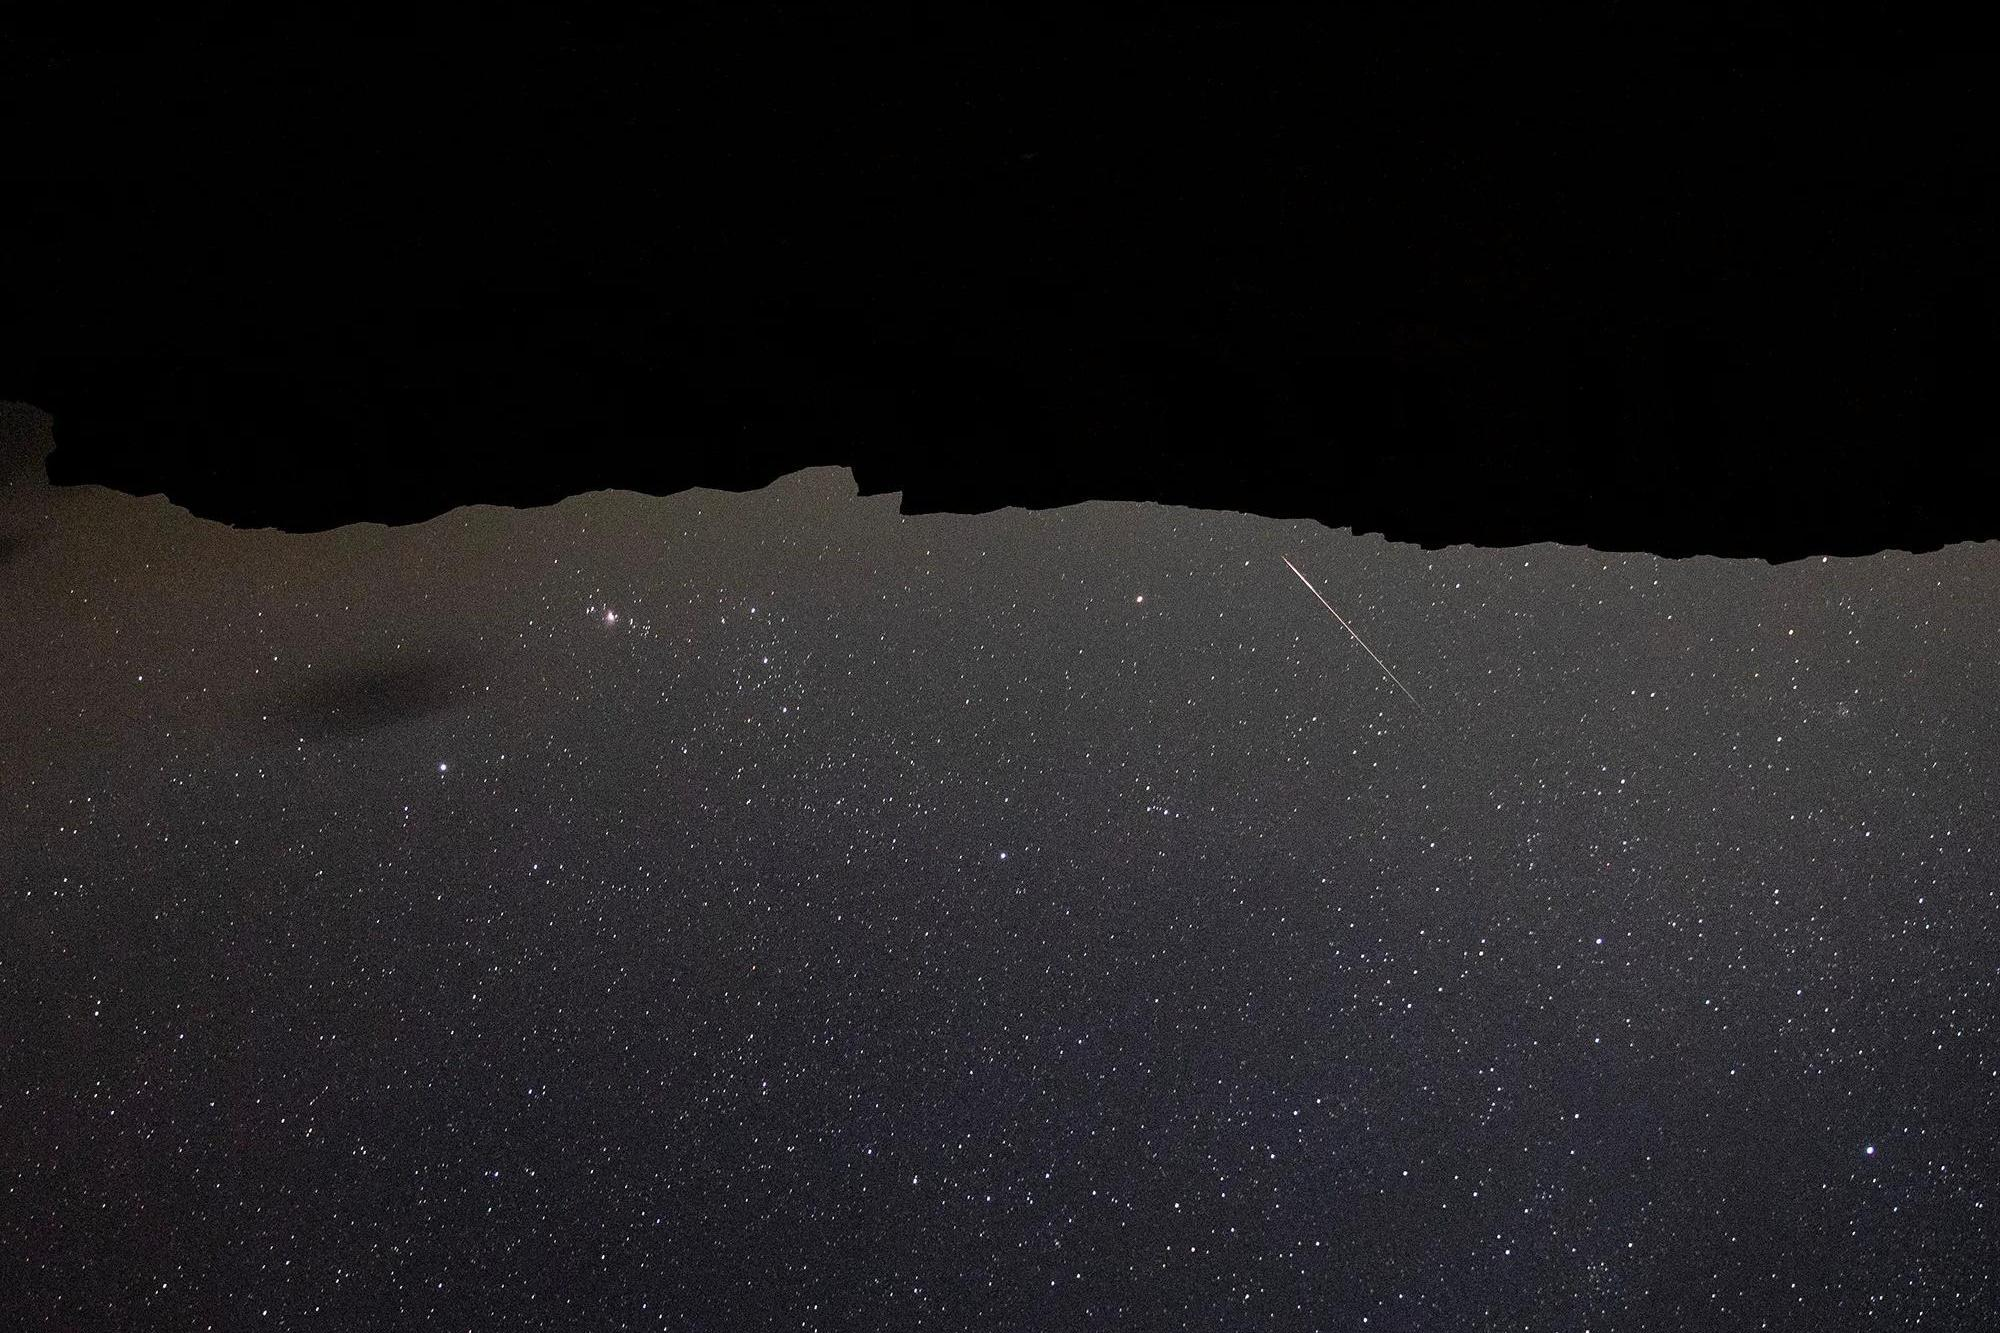meteorite: (1249, 527, 1411, 733)
